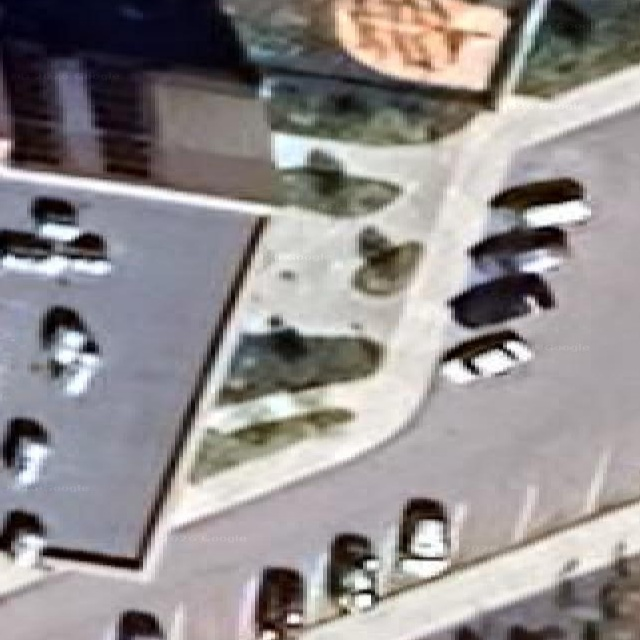car: (449, 273, 554, 328), (43, 309, 100, 396), (490, 178, 591, 227), (440, 330, 532, 383), (469, 227, 568, 273), (398, 498, 449, 577), (328, 534, 379, 612), (256, 567, 303, 639), (2, 418, 50, 488), (0, 231, 65, 276), (3, 511, 45, 567), (32, 197, 80, 241), (61, 233, 111, 275), (14, 437, 49, 487), (116, 610, 164, 639), (11, 530, 44, 567)
